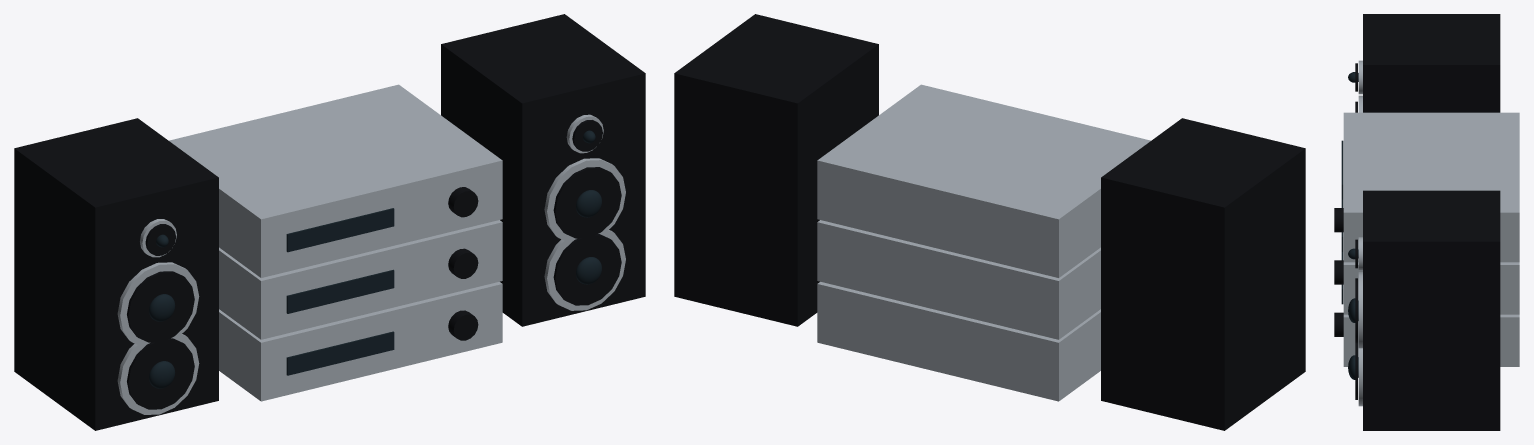
The model's file is Hi_fi_torony.obj.
3 views of the same model, side by side, from view 1: azimuth 30°, elevation 25°; view 2: azimuth 150°, elevation 25°; view 3: azimuth 270°, elevation 25° (orthographic). The views are drawn at different scales.
Bounding box in the file's own units: 0.98 × 0.38 × 0.337.
